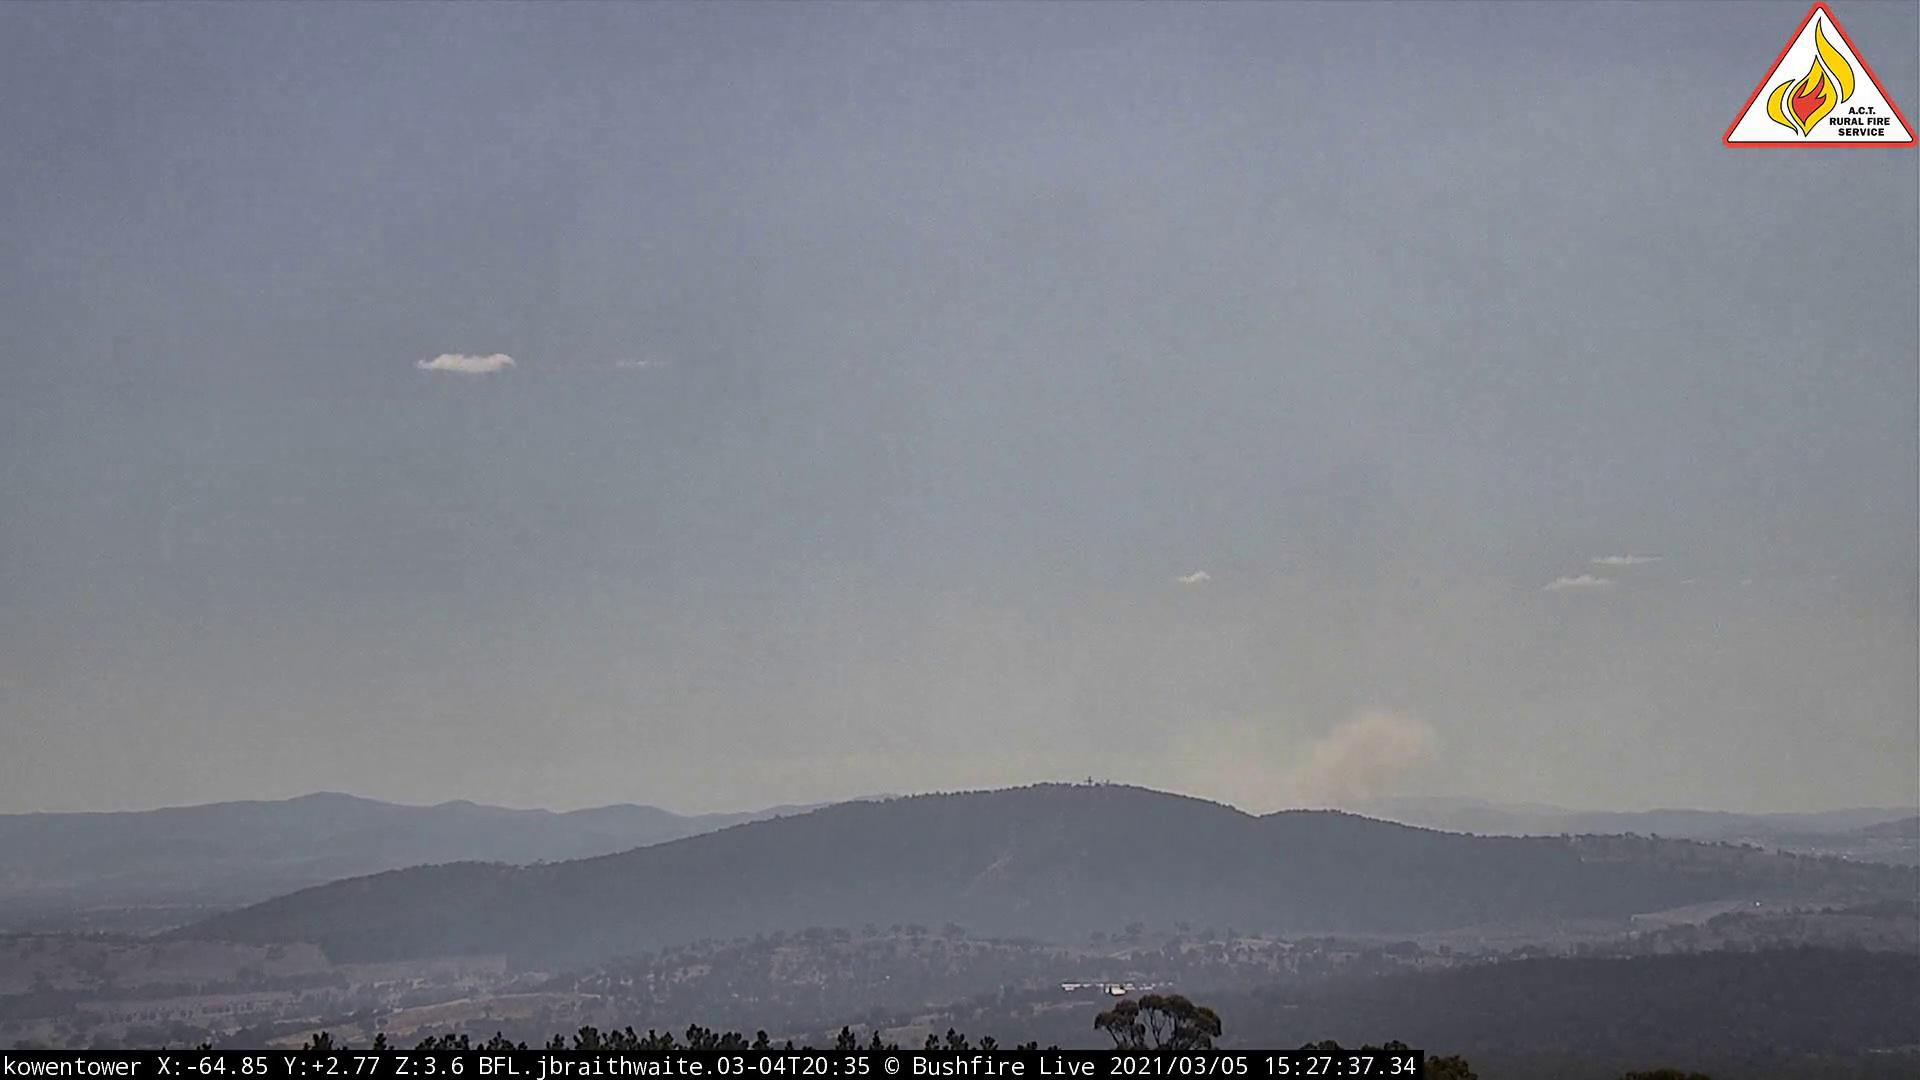Smoke: (574, 433, 1478, 848)
